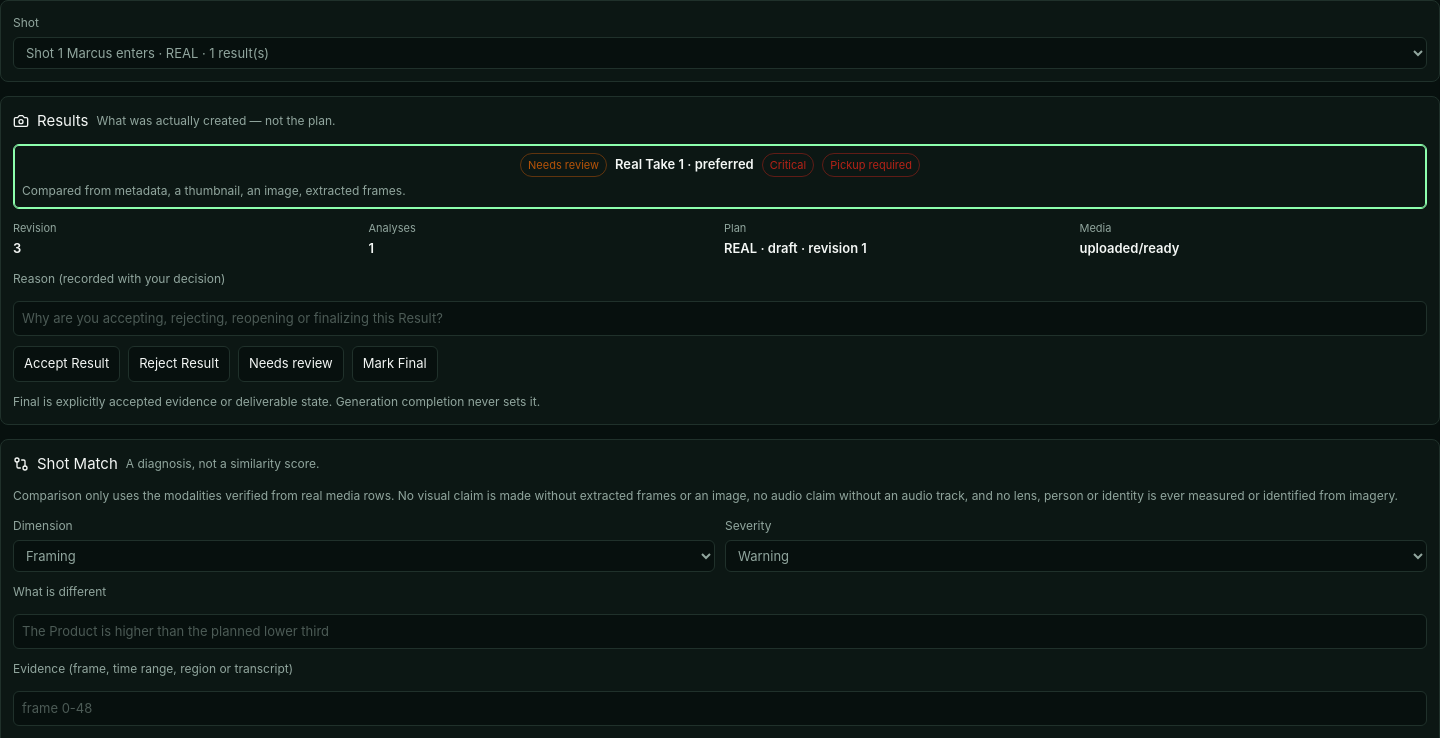
Test: shot match › refuses to record an observed difference with no evidence
In the field named "Difference": (720, 631) [13,614,1427,649], type "Product is off frame"
(page scrolled)
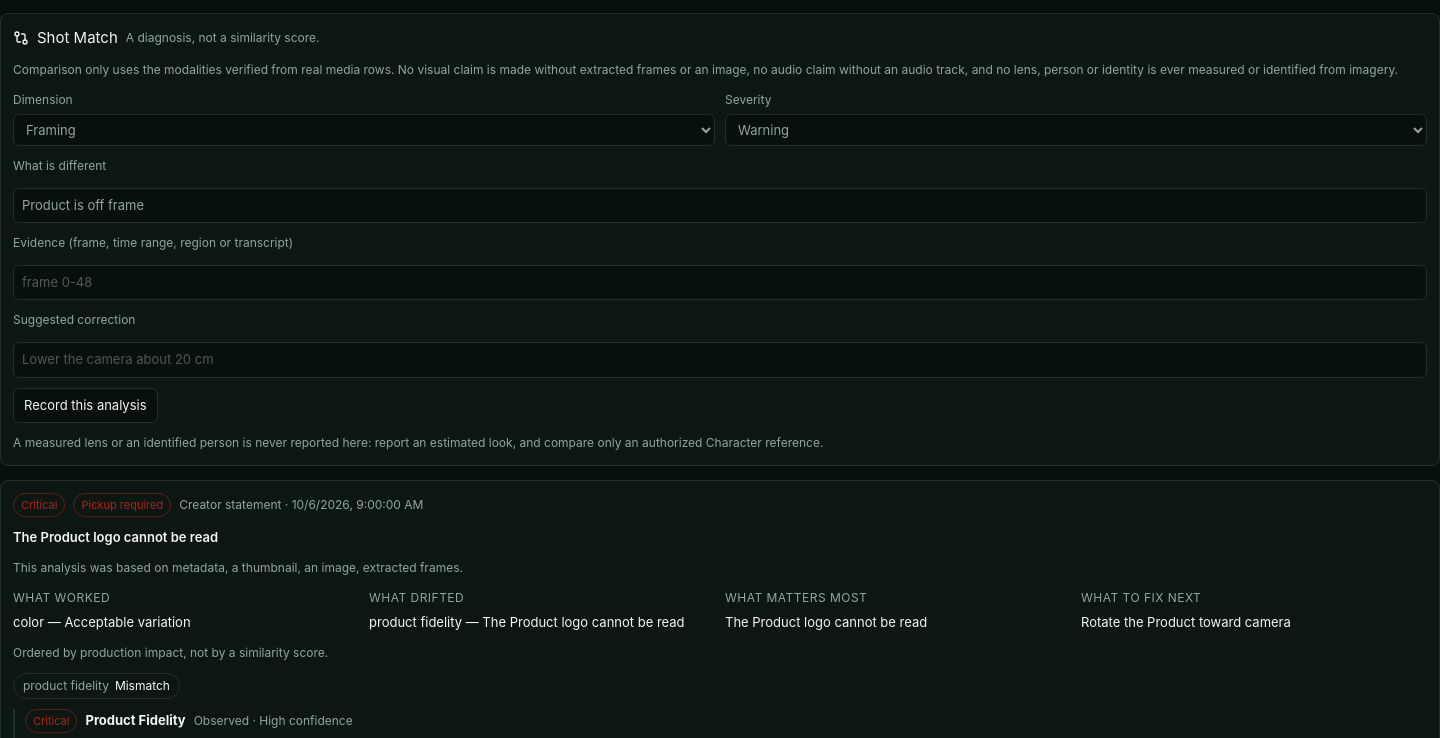
Click the button "Record this analysis": (85, 405) [13,388,158,423]
(page scrolled)
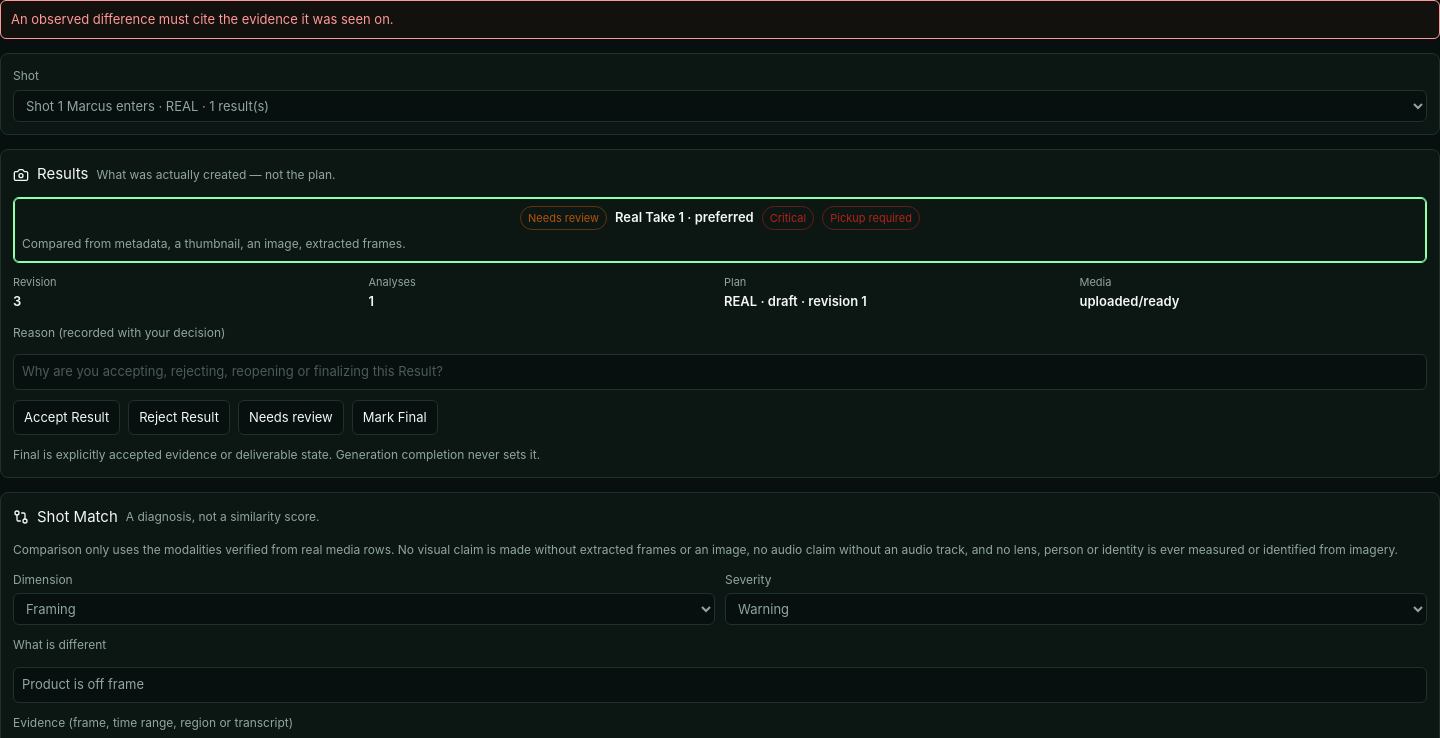
expect the message shows "cite the evidence it was seen on": met, box [11,11,394,27]
